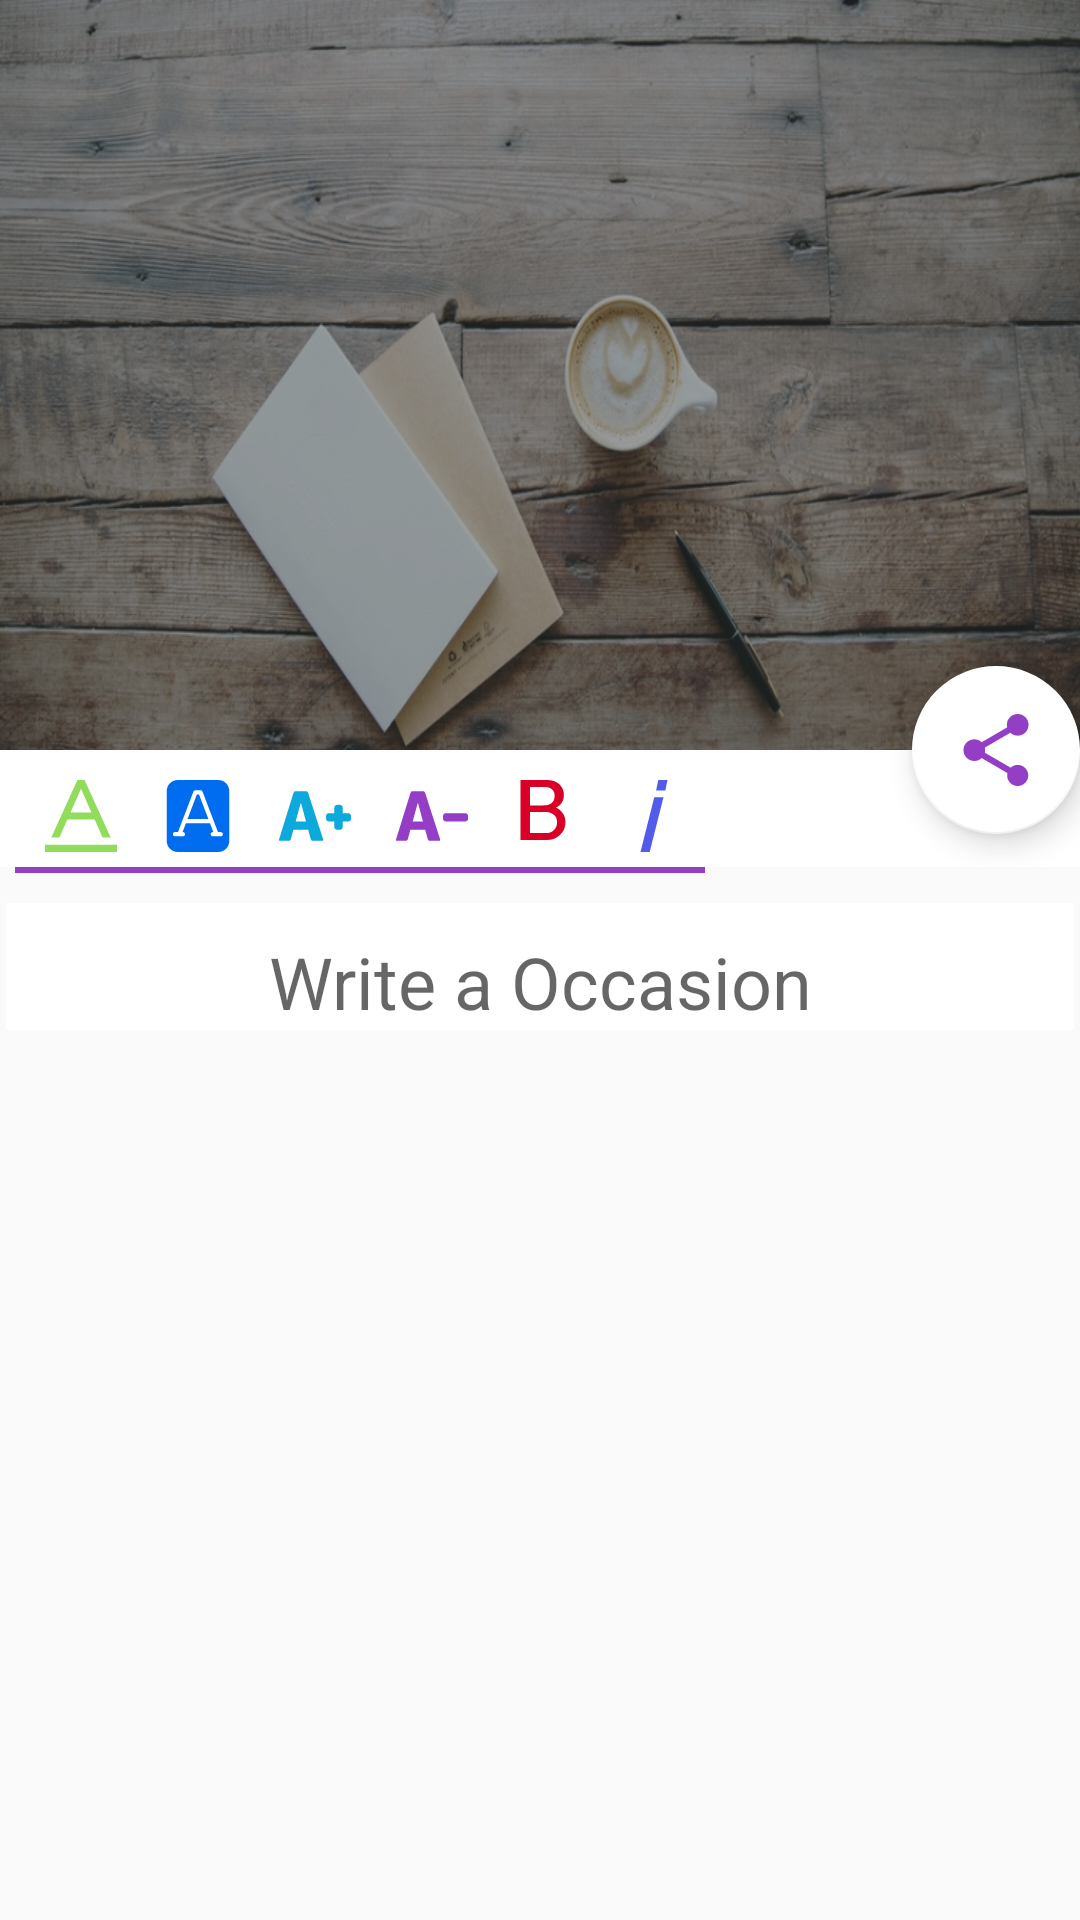

Named icons in this screenshot (1080 x 1920) and their centers, (x,y):
font size minse: (432,816)
font size pluse: (315,816)
font style: (543,810)
font style itilc: (654,816)
share: (996,750)
